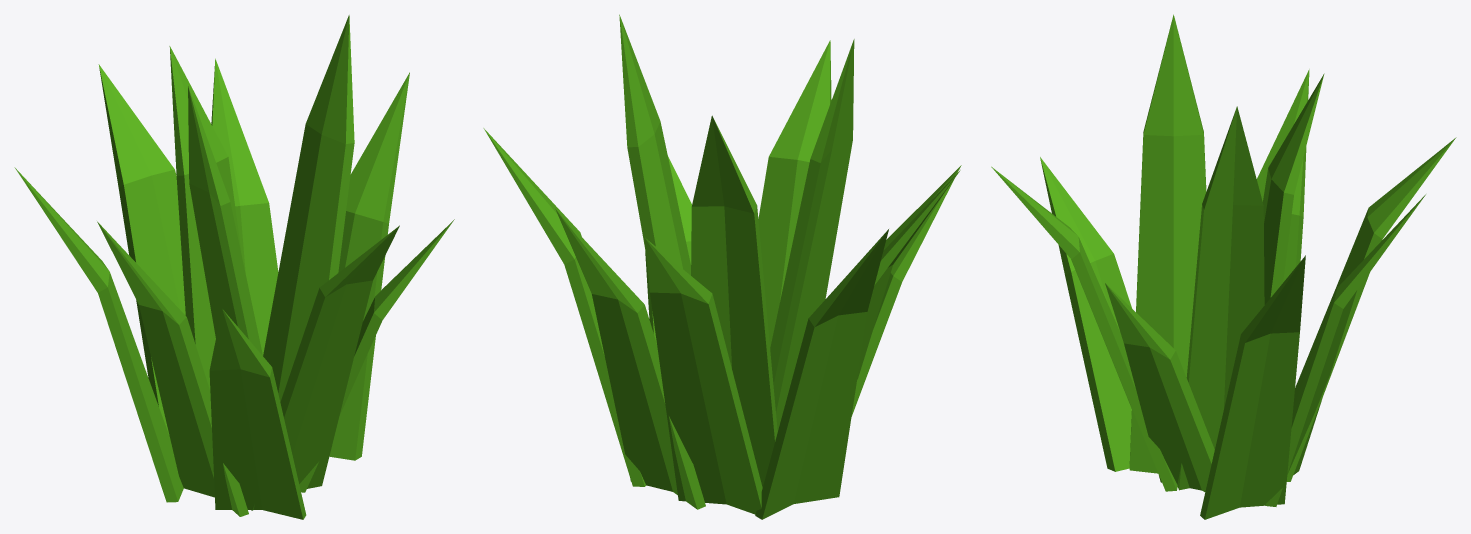
File: Grass_d_02.fbx
3 renders of one model, left to right at view 1: azimuth 30°, elevation 25°; view 2: azimuth 150°, elevation 25°; view 3: azimuth 270°, elevation 25°, orthographic. The views are drawn at different scales.
Visible parts, largest first — view 1: Grass_d_02_LOD0; view 2: Grass_d_02_LOD0; view 3: Grass_d_02_LOD0.
Part boxes in pixels (x1,y1,x2,y2): Grass_d_02_LOD0: [14, 15, 454, 519]; Grass_d_02_LOD0: [483, 14, 961, 519]; Grass_d_02_LOD0: [991, 14, 1456, 519].
Size of what is drawn, in the model's own units: 17.66 by 18.38 by 18.67.
